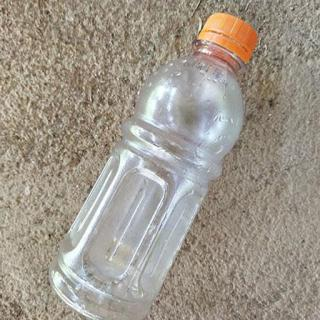Plastic-bottle: (47, 12, 262, 320)
